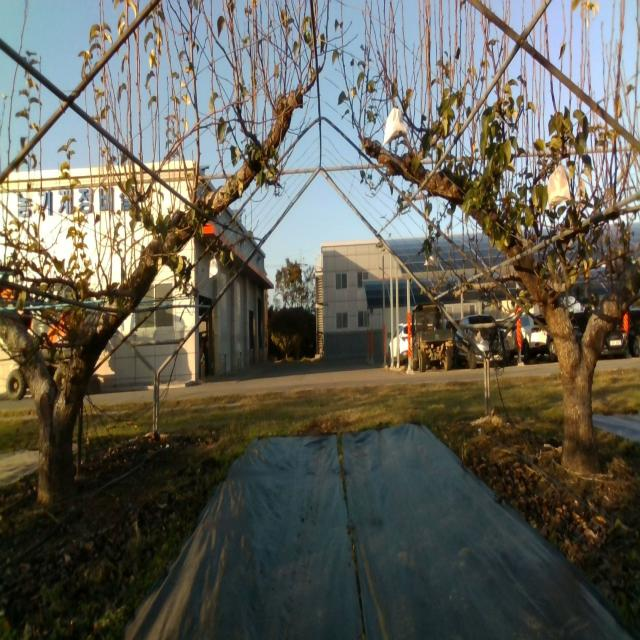pearbags: (548, 164, 572, 211), (383, 106, 408, 146), (424, 249, 438, 269), (208, 254, 218, 278)
